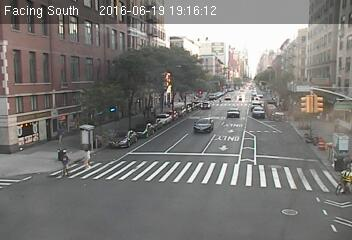neg: (335, 161, 351, 199), (16, 120, 37, 147), (281, 98, 296, 118)
pos: (51, 145, 76, 179), (77, 146, 96, 171)
